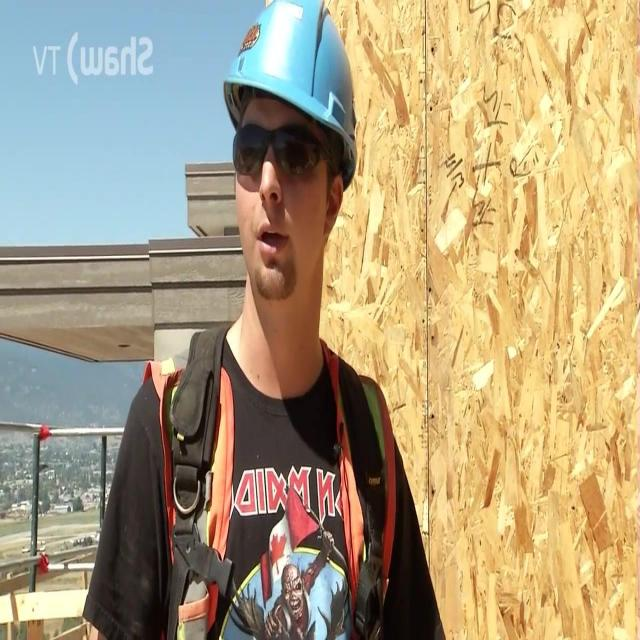Reflective-Jacket: (126, 321, 412, 640)
Safety-Helmet: (220, 3, 364, 185)
